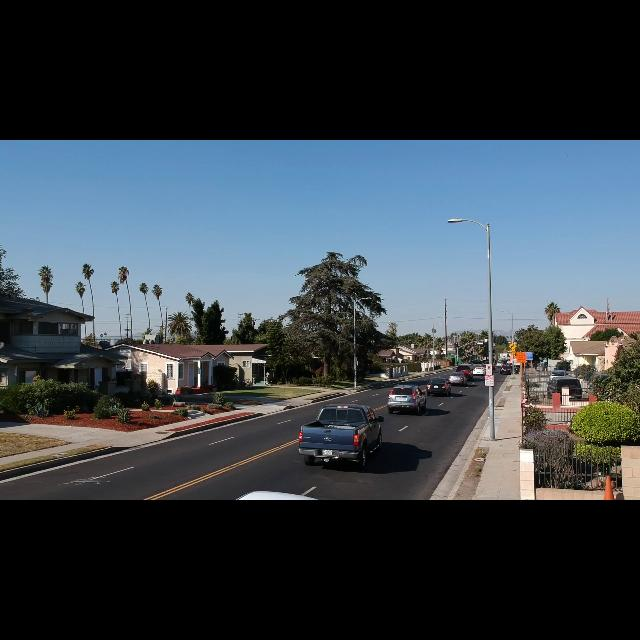car: (299, 404, 383, 468), (387, 385, 425, 414), (548, 377, 582, 398), (238, 492, 315, 499), (427, 378, 451, 396), (447, 372, 467, 385), (456, 366, 472, 379), (550, 370, 567, 379), (473, 367, 485, 376), (500, 366, 511, 374), (496, 361, 505, 367), (471, 360, 482, 364)
